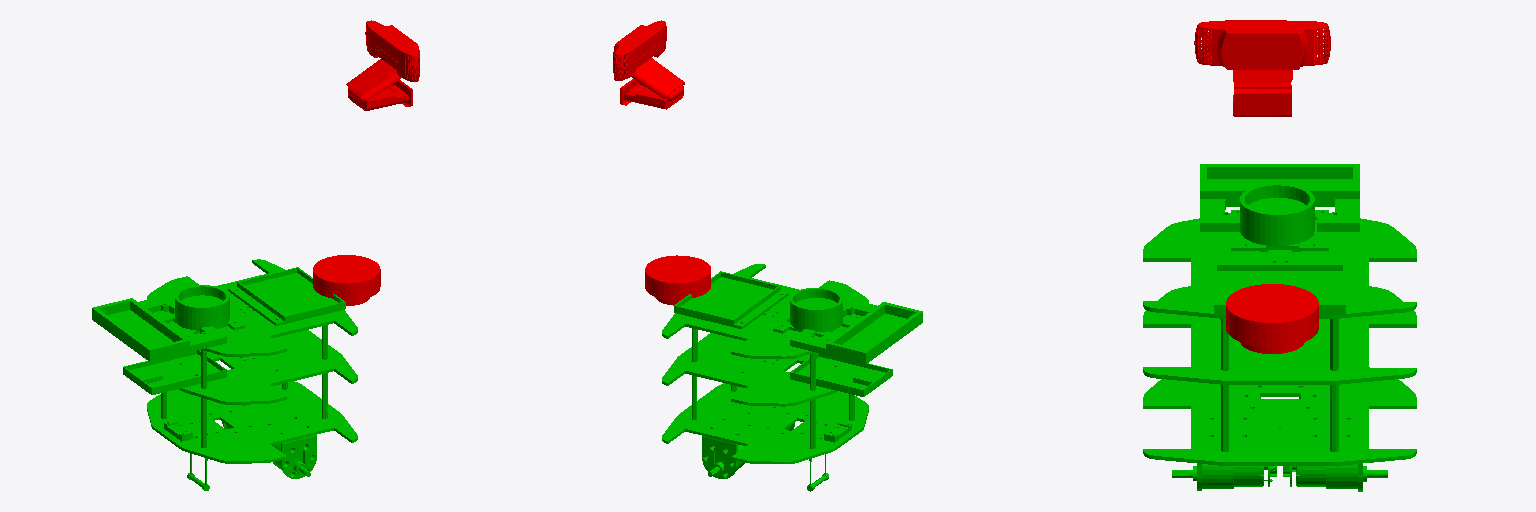
The robot description file, URDF, robot "description":
<?xml version="1.0" encoding="utf-8"?>
<!-- This URDF was automatically created by SolidWorks to URDF Exporter! Originally created by [author] ([email redacted]) 
     Commit Version: 1.6.0-1-g15f4949  Build Version: 1.6.7594.29634
     For more information, please see http://wiki.ros.org/sw_urdf_exporter -->
<robot
  name="description">


 <link name="base_footprint"/>

  <joint name="base_joint" type="fixed">
    <parent link="base_footprint"/>
    <child link="base_link"/>            
    <origin xyz="0.0 0.0 0" rpy="0 0 1.57"/>
  </joint>
  <link
    name="base_link">
    <inertial>
      <origin
        xyz="0.00023692 0.21917 -0.10631"
        rpy="0 0 0" />
      <mass
        value="5.6969" />
      <inertia
        ixx="0.064224"
        ixy="-1.3298E-07"
        ixz="4.0684E-05"
        iyy="0.1029"
        iyz="0.00031114"
        izz="0.048325" />
    </inertial>
    <visual>
      <origin
        xyz="0 0 0"
        rpy="0 0 0" />
      <geometry>
        <mesh
          filename="package://description/meshes/base_link.STL" />
      </geometry>
      <material
        name="">
        <color
          rgba="0 0.81961 0 1" />
      </material>
    </visual>
    <collision>
      <origin
        xyz="0 0 0"
        rpy="0 0 0" />
      <geometry>
        <mesh
          filename="package://description/meshes/base_link.STL" />
      </geometry>
    </collision>
  </link>
  <link
    name="camera_link">
    <inertial>
      <origin
        xyz="0.049837 0.044198 0.059634"
        rpy="0 0 0" />
      <mass
        value="0.084224" />
      <inertia
        ixx="1.3967E-05"
        ixy="-8.8446E-10"
        ixz="-1.0097E-09"
        iyy="3.636E-05"
        iyz="-1.5815E-06"
        izz="3.0481E-05" />
    </inertial>
    <visual>
      <origin
        xyz="0 0 0"
        rpy="0 0 0" />
      <geometry>
        <mesh
          filename="package://description/meshes/camera_link.STL" />
      </geometry>
      <material
        name="">
        <color
          rgba="1 0 0 1" />
      </material>
    </visual>
    <collision>
      <origin
        xyz="0 0 0"
        rpy="0 0 0" />
      <geometry>
        <mesh
          filename="package://description/meshes/camera_link.STL" />
      </geometry>
    </collision>
  </link>
  <joint
    name="camera_joint"
    type="fixed">
    <origin
      xyz="-0.056159 -0.069676 0.34735"
      rpy="1.5478 0 0" />
    <parent
      link="base_link" />
    <child
      link="camera_link" />
    <axis
      xyz="0 0 0" />
  </joint>
  <link
    name="lidar_link">
    <inertial>
      <origin
        xyz="-0.00016329 0.0005724 0.12219"
        rpy="0 0 0" />
      <mass
        value="0.18368" />
      <inertia
        ixx="6.7746E-05"
        ixy="-3.5606E-07"
        ixz="2.9723E-08"
        iyy="6.732E-05"
        iyz="-1.6764E-08"
        izz="0.000122" />
    </inertial>
    <visual>
      <origin
        xyz="0 0 0"
        rpy="0 0 0" />
      <geometry>
        <mesh
          filename="package://description/meshes/lidar_link.STL" />
      </geometry>
      <material
        name="">
        <color
          rgba="1 0 0 1" />
      </material>
    </visual>
    <collision>
      <origin
        xyz="0 0 0"
        rpy="0 0 0" />
      <geometry>
        <mesh
          filename="package://description/meshes/lidar_link.STL" />
      </geometry>
    </collision>
  </link>
  <joint
    name="lidar_joint"
    type="fixed">
    <origin
      xyz="0.00072357 -0.084809 0.1763"
      rpy="0 0 -1.57" />
    <parent
      link="base_link" />
    <child
      link="lidar_link" />
    <axis
      xyz="0 0 0" />
  </joint>
 <!--  <link
    name="wheel_R_link">
    <inertial>
      <origin
        xyz="-5.5511E-17 0 -6.6266E-16"
        rpy="0 0 0" />
      <mass
        value="0.29729" />
      <inertia
        ixx="0.0003148"
        ixy="-4.9727E-20"
        ixz="9.5734E-36"
        iyy="0.00059864"
        iyz="-3.7036E-20"
        izz="0.0003148" />
    </inertial>
    <visual>
      <origin
        xyz="0 0 0"
        rpy="0 0 0" />
      <geometry>
        <mesh
          filename="package://description/meshes/wheel_R_link.STL" />
      </geometry>
      <material
        name="">
        <color
          rgba="0 0 0 1" />
      </material>
    </visual>
    <collision>
      <origin
        xyz="0 0 0"
        rpy="0 0 0" />
      <geometry>
        <mesh
          filename="package://description/meshes/wheel_R_link.STL" />
      </geometry>
    </collision>
  </link>
  <joint
    name="wheel_R_joint"
    type="continuous">
    <origin
      xyz="-0.18912 0 0.10806"
      rpy="1.5708 1.5708 0" />
    <parent
      link="base_link" />
    <child
      link="wheel_R_link" />
    <axis
      xyz="0 0 0" />
  </joint>
  <link
    name="wheel_L_link">
    <inertial>
      <origin
        xyz="0 0 0"
        rpy="0 0 0" />
      <mass
        value="0" />
      <inertia
        ixx="0"
        ixy="0"
        ixz="0"
        iyy="0"
        iyz="0"
        izz="0" />
    </inertial>
    <visual>
      <origin
        xyz="0 0 0"
        rpy="0 0 0" />
      <geometry>
        <mesh
          filename="package://description/meshes/wheel_L_link.STL" />
      </geometry>
      <material
        name="">
        <color
          rgba="0 0 0 1" />
      </material>
    </visual>
    <collision>
      <origin
        xyz="0 0 0"
        rpy="0 0 0" />
      <geometry>
        <mesh
          filename="package://description/meshes/wheel_L_link.STL" />
      </geometry>
    </collision>
  </link>
  <joint
    name="wheel_L_joint"
    type="continuous">
    <origin
      xyz="0.18912 0 0.10806"
      rpy="1.5708 -1.5708 0" />
    <parent
      link="base_link" />
    <child
      link="wheel_L_link" />
    <axis
      xyz="0 0 0" />
  </joint> -->
</robot>

--- What the picture shows (computed from the rendered views, not written in the file) ---
3 views of the same robot in one strip: view 1: azimuth 30°, elevation 25°; view 2: azimuth 150°, elevation 25°; view 3: azimuth 270°, elevation 25° (orthographic).
Model description with 4 links and 3 joints (3 fixed), rooted at base_footprint, posed all joints at 0.
Links seen in each view (by area): view 1: base_link, camera_link, lidar_link; view 2: base_link, camera_link, lidar_link; view 3: base_link, camera_link, lidar_link.
Boxes of the visible links, x1=… form: base_link: x1=92, y1=259, x2=357, y2=490; camera_link: x1=346, y1=20, x2=419, y2=110; lidar_link: x1=313, y1=255, x2=380, y2=305; base_link: x1=662, y1=264, x2=922, y2=491; camera_link: x1=613, y1=20, x2=684, y2=109; lidar_link: x1=645, y1=255, x2=710, y2=305; base_link: x1=1143, y1=164, x2=1416, y2=491; camera_link: x1=1194, y1=20, x2=1330, y2=116; lidar_link: x1=1226, y1=284, x2=1318, y2=353.
Size in the robot's own frame: 0.3254 by 0.2001 by 0.451 metres.
3 mesh visuals loaded from 3 distinct referenced files (3 binary STL).
